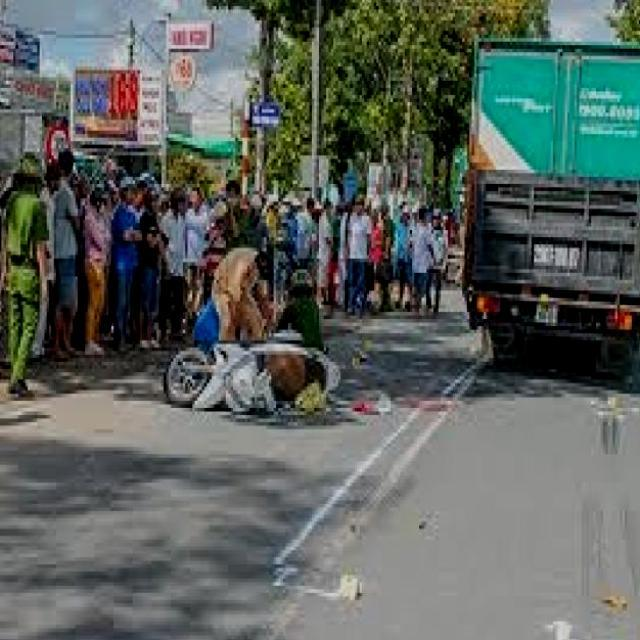accident: (162, 298, 366, 445)
